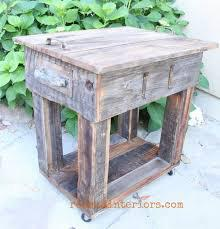wood: (13, 24, 212, 212)
